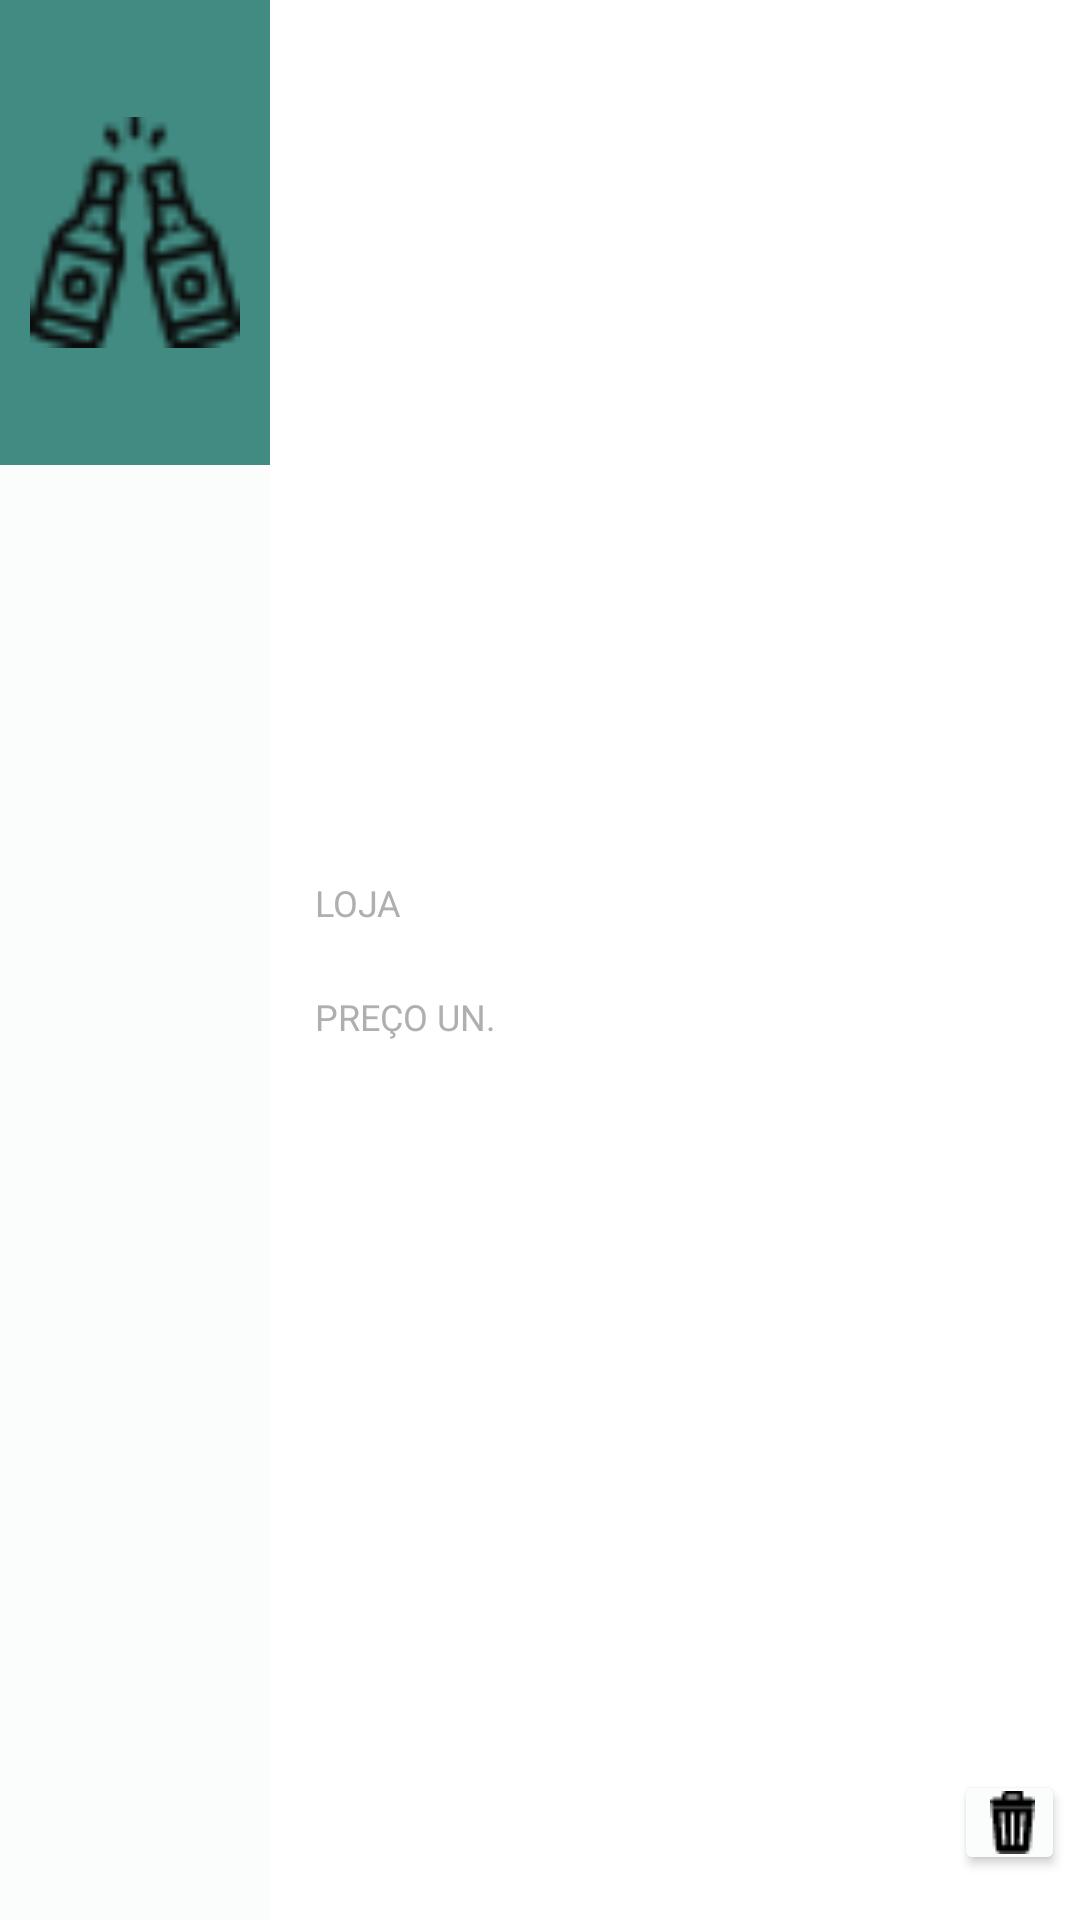

Screen size 1080x1920. Icon name, then its center in pixels as (x=x, y=y):
bebida: (x=135, y=232)
